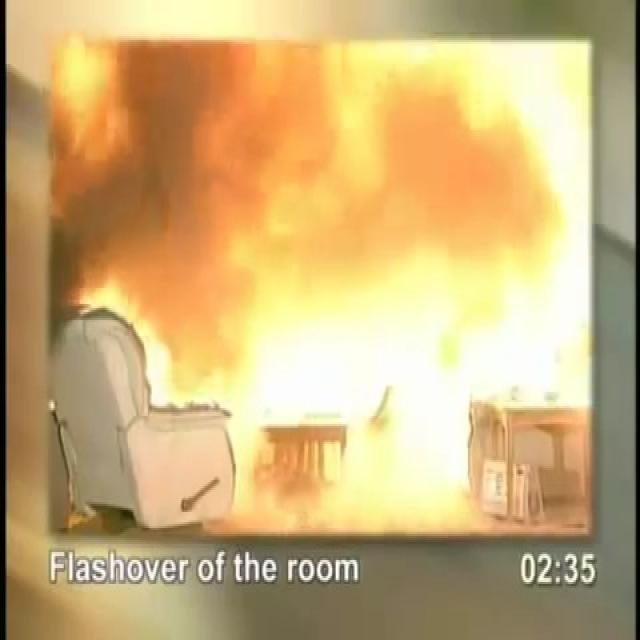Fire: (36, 28, 606, 548)
